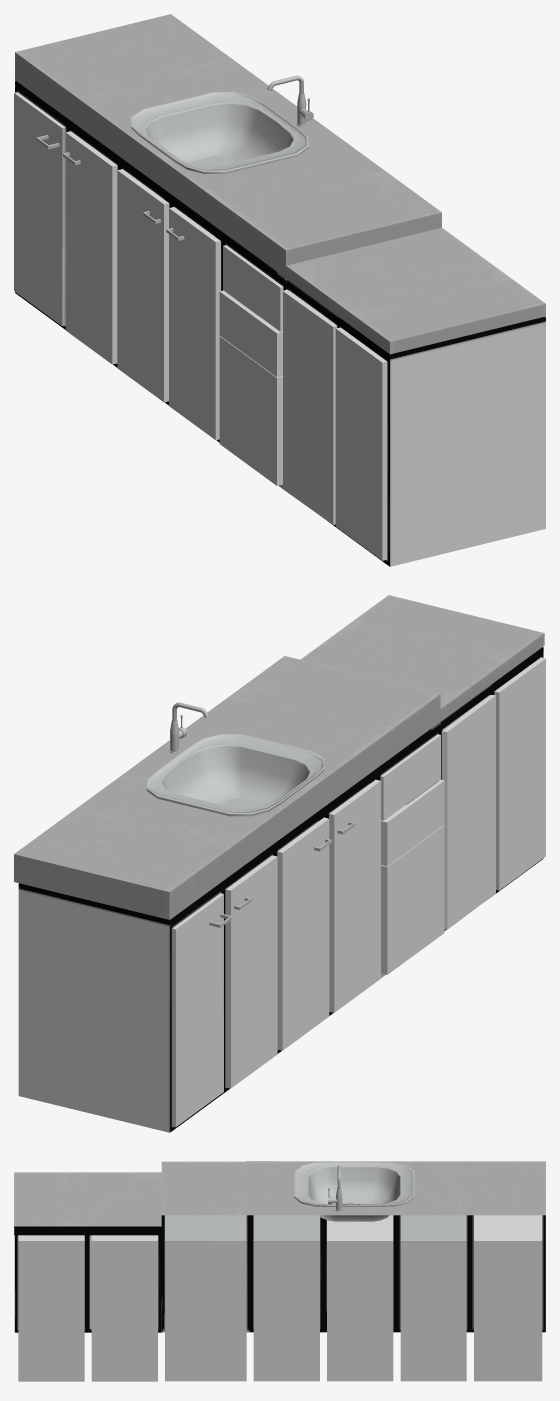
The model's file is RoomSink.fbx.
3 views of the same model, one above another, from view 1: azimuth 30°, elevation 25°; view 2: azimuth 150°, elevation 25°; view 3: azimuth 270°, elevation 25° (orthographic). The views are drawn at different scales.
Visible parts, largest first — view 1: RoomSink1, RoomSink2, RoomSinkdrawer7, RoomSinkdrawer3, RoomSinkdrawer9, RoomSinkdrawer6, RoomSinkdrawer8, RoomSinkdrawer5, RoomSinkdrawer2, RoomSinkdrawer1, RoomSinkdrawer; view 2: RoomSink1, RoomSink2, RoomSinkdrawer6, RoomSinkdrawer7, RoomSinkdrawer3, RoomSinkdrawer8, RoomSinkdrawer5, RoomSinkdrawer9, RoomSinkdrawer2, RoomSinkdrawer1, RoomSinkdrawer; view 3: RoomSink2, RoomSink1.
Part boxes in pixels (x1,y1,x2,y2): RoomSink1: (15, 14, 545, 354); RoomSink2: (15, 80, 545, 566); RoomSinkdrawer7: (63, 131, 117, 364); RoomSinkdrawer3: (283, 289, 337, 524); RoomSinkdrawer9: (335, 327, 387, 560); RoomSinkdrawer6: (117, 169, 169, 402); RoomSinkdrawer8: (14, 92, 65, 326); RoomSinkdrawer5: (166, 207, 220, 440); RoomSinkdrawer2: (219, 336, 282, 485); RoomSinkdrawer1: (219, 290, 282, 377); RoomSinkdrawer: (223, 245, 283, 331); RoomSink1: (14, 595, 544, 919); RoomSink2: (18, 647, 543, 1132); RoomSinkdrawer6: (277, 817, 331, 1050); RoomSinkdrawer7: (225, 855, 277, 1088); RoomSinkdrawer3: (441, 695, 495, 929); RoomSinkdrawer8: (172, 893, 232, 1127); RoomSinkdrawer5: (329, 779, 380, 1012); RoomSinkdrawer9: (494, 657, 545, 890); RoomSinkdrawer2: (381, 825, 444, 974); RoomSinkdrawer1: (381, 779, 444, 866); RoomSinkdrawer: (324, 734, 440, 820); RoomSink2: (14, 1204, 545, 1381); RoomSink1: (14, 1161, 545, 1235).
Bounding box in the file's own units: 108 × 175 × 409.
Materials: 1 (1 with a texture image).
